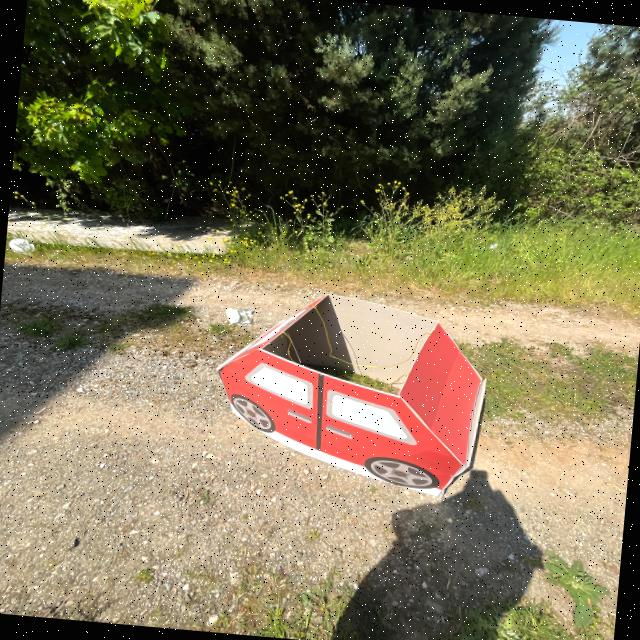red_car: (183, 276, 533, 519)
